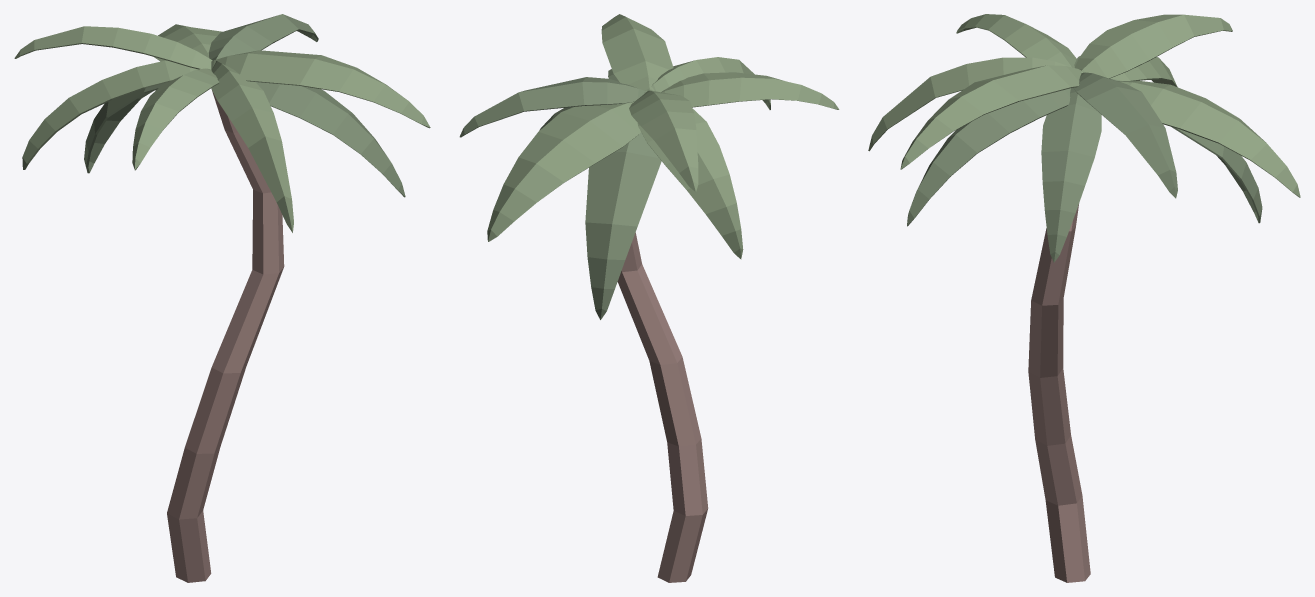
File: palm_tree_3.glb
3 renders of one model, left to right at view 1: azimuth 30°, elevation 25°; view 2: azimuth 150°, elevation 25°; view 3: azimuth 270°, elevation 25°, orthographic. The views are drawn at different scales.
Visible parts, largest first — view 1: Green_Tree, Wood, DarkGreen_Tree; view 2: Green_Tree, DarkGreen_Tree, Wood; view 3: Green_Tree, DarkGreen_Tree, Wood.
Part boxes in pixels (x1,y1,x2,y2): Green_Tree: [14, 24, 430, 232]; Wood: [167, 90, 284, 582]; DarkGreen_Tree: [84, 14, 405, 197]; Green_Tree: [487, 14, 839, 259]; DarkGreen_Tree: [459, 69, 661, 319]; Wood: [617, 232, 708, 582]; Green_Tree: [868, 14, 1300, 197]; DarkGreen_Tree: [907, 72, 1262, 262]; Wood: [1028, 204, 1090, 582].
Bounding box in the file's own units: 1.31 × 2.23 × 1.63.
